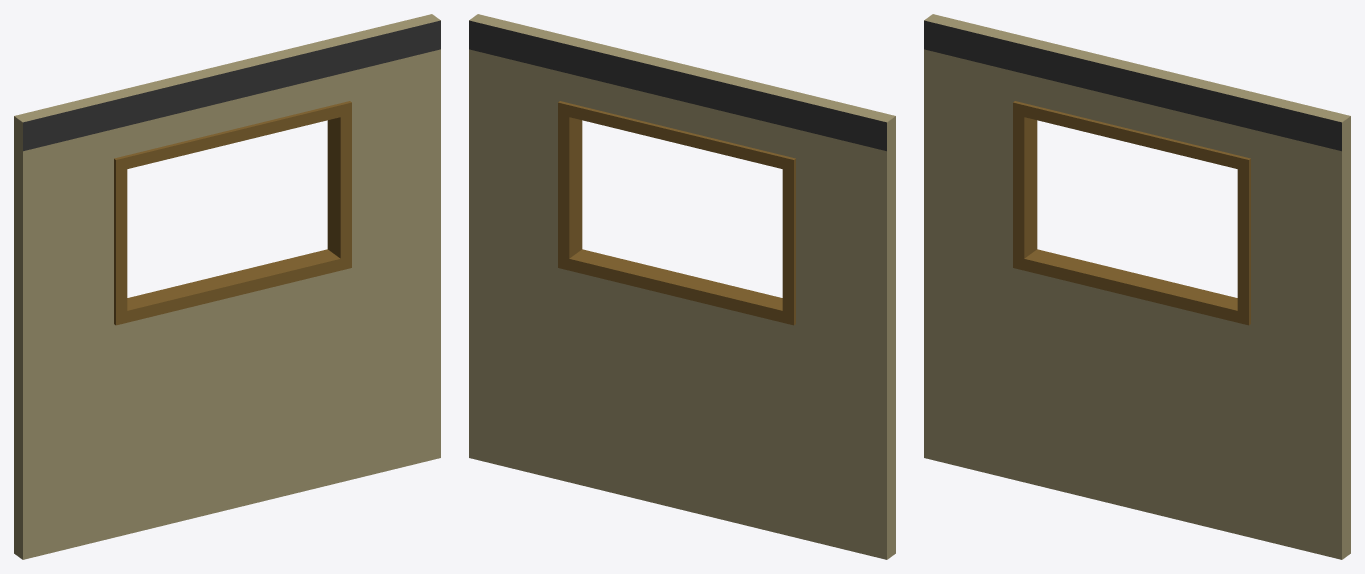
File: Office Wall Window.fbx
The picture shows the model from 3 angles, left to right: view 1: azimuth 30°, elevation 25°; view 2: azimuth 150°, elevation 25°; view 3: azimuth 330°, elevation 25°; orthographic projection.
Parts seen in each view (by area): view 1: office_wall_window; view 2: office_wall_window; view 3: office_wall_window.
Boxes of the visible parts, bbox=[...] form: office_wall_window: bbox=[14, 14, 440, 559]; office_wall_window: bbox=[469, 14, 895, 559]; office_wall_window: bbox=[924, 14, 1350, 559].
Bounding box in the file's own units: 300 × 300 × 16.19.
